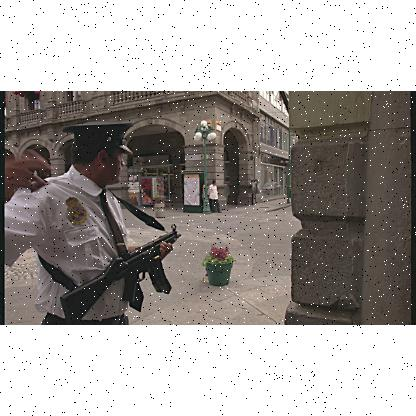gun: (59, 221, 185, 323)
